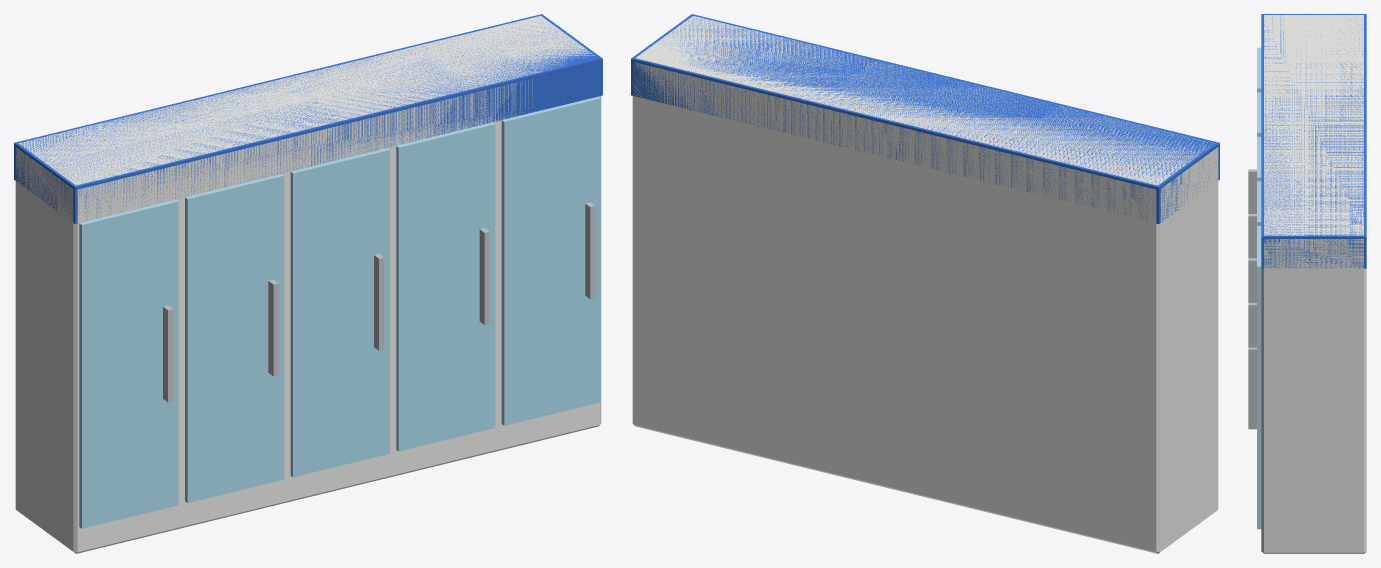
File: DrinkCooler.fbx
3 renders of one model, left to right at view 1: azimuth 30°, elevation 25°; view 2: azimuth 150°, elevation 25°; view 3: azimuth 270°, elevation 25°, orthographic. The views are drawn at different scales.
Parts seen in each view (by area): view 1: DrinkCooler; view 2: DrinkCooler; view 3: DrinkCooler.
Part boxes in pixels (x1=…): DrinkCooler: x1=14, y1=14, x2=602, y2=553; DrinkCooler: x1=631, y1=14, x2=1219, y2=553; DrinkCooler: x1=1248, y1=14, x2=1366, y2=553.
Size of the model in its own units: 12 by 8 by 2.7.
1 material, 1 textured.
